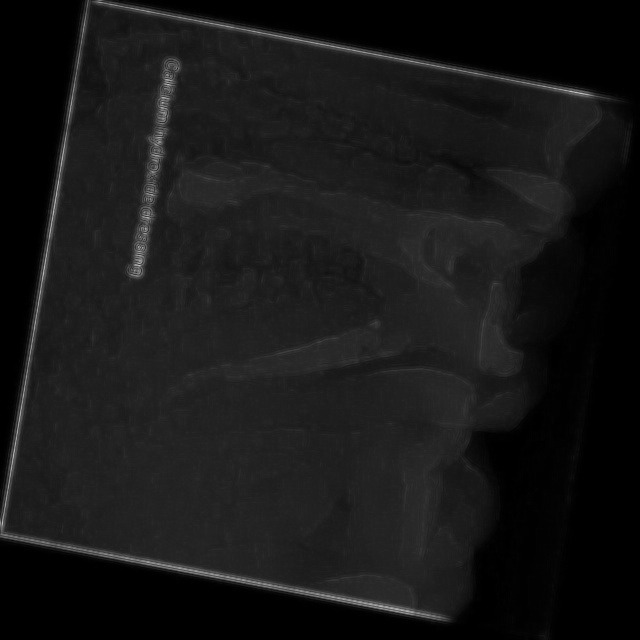Class 1- complete endodontic treatment: (120, 106, 519, 516)
